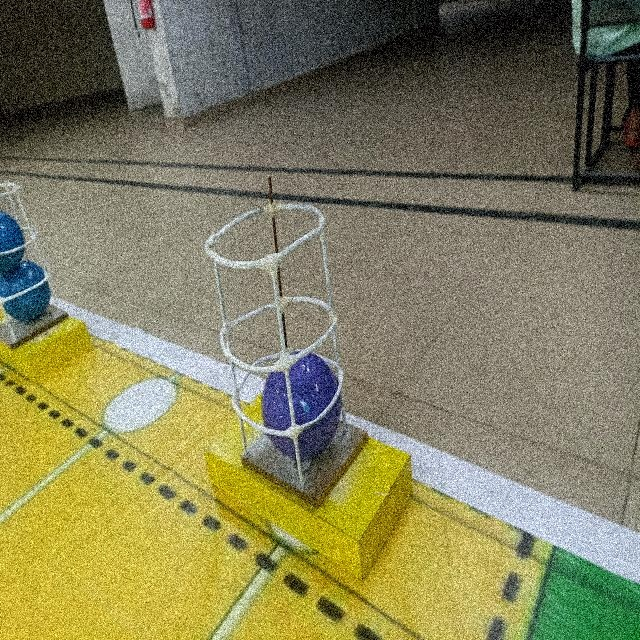blue_ball: (1, 260, 49, 321), (0, 211, 27, 278)
purple_ball: (262, 351, 334, 444)
silo: (205, 199, 352, 494), (0, 174, 58, 351)
